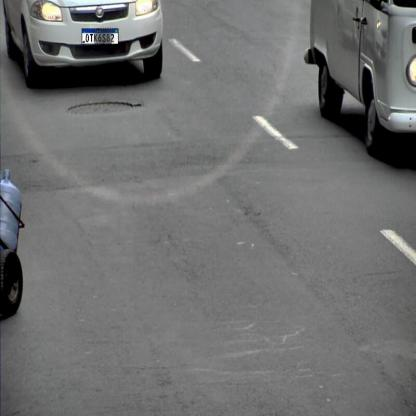PlacaM: (82, 28, 118, 44)
